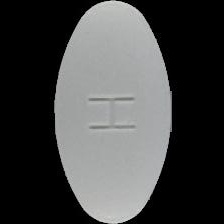31722-532: (0, 0, 224, 224)
